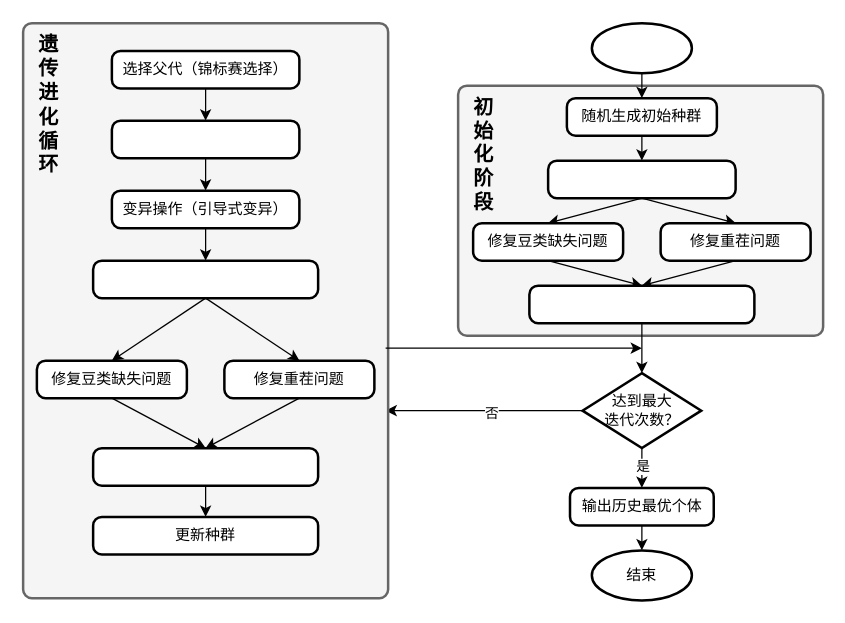
This 845x623 diagram has some shape labels left out. The box of each missing label's shape, as (x1, y1, x2, y2) in pixels:
交叉操作（按地块交叉）: (110, 119, 300, 159)
对每个个体调用修复函数: (546, 159, 736, 199)
对生成的新个体调用修复函数: (91, 259, 319, 299)
开始: (590, 21, 692, 74)
评估初始种群所有个体适应度: (528, 284, 755, 324)
评估新个体适应度: (91, 446, 319, 486)
